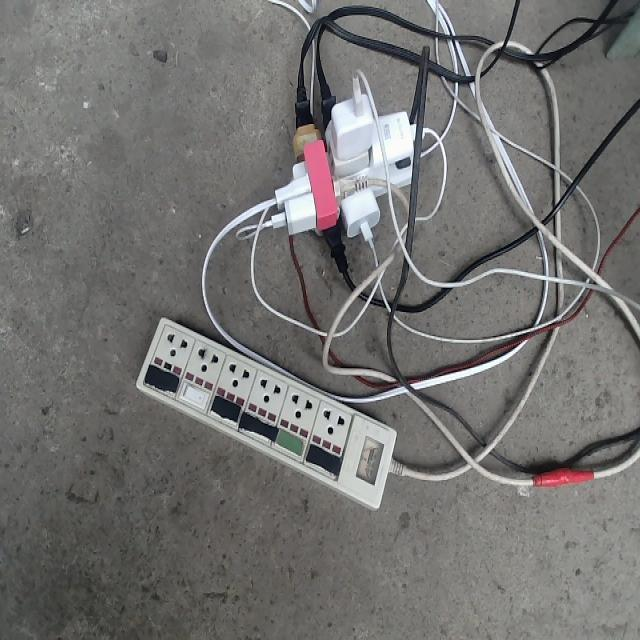-: (234, 65, 445, 260)
